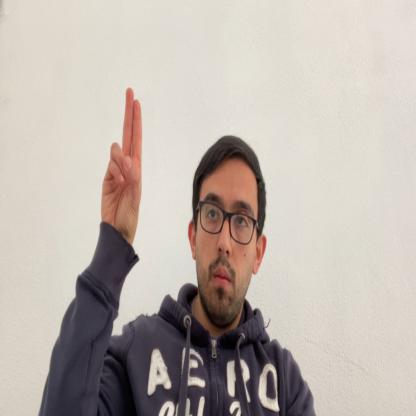U: (101, 88, 142, 240)
